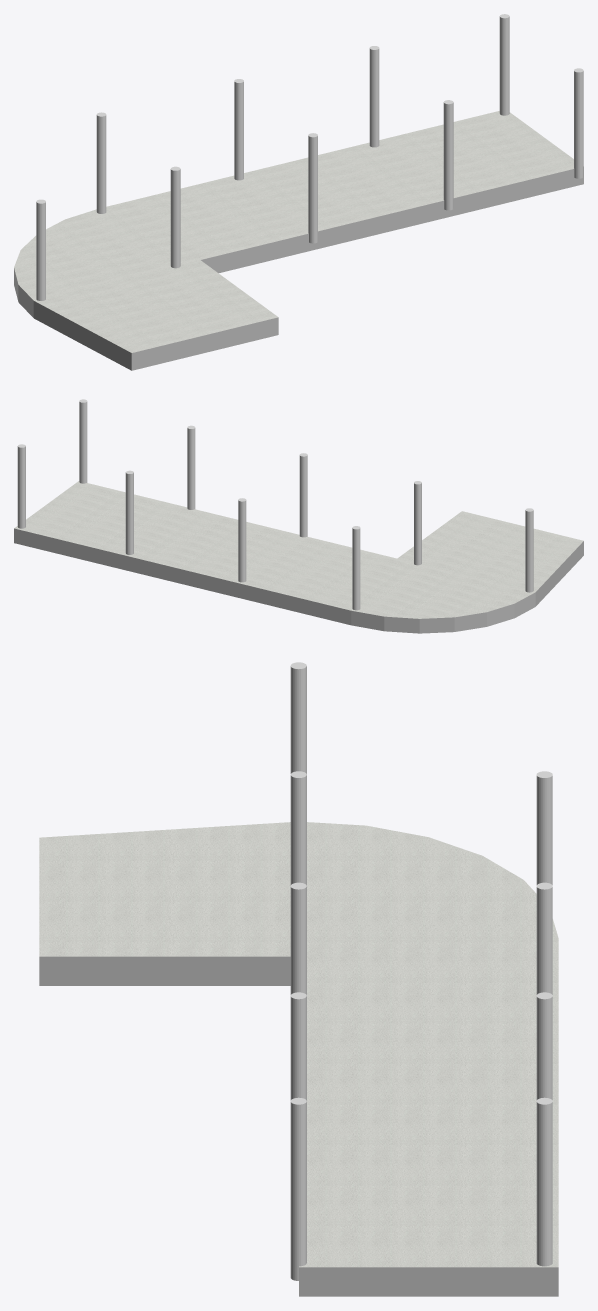
The model's file is RitaharjuBase.fbx.
3 views of the same model, one above another, from view 1: azimuth 30°, elevation 25°; view 2: azimuth 150°, elevation 25°; view 3: azimuth 270°, elevation 25° (orthographic). The views are drawn at different scales.
Parts seen in each view (by area): view 1: RitaharjuFloor, Column7, Column6, Column8, Column3, Column2, Column9, Column5, Column4, Column1; view 2: RitaharjuFloor, Column1, Column9, Column8, Column5, Column4, Column7, Column2, Column6, Column3; view 3: RitaharjuFloor, Column9, Column8, Column3, Column2, Column5, Column4, Column1, Column7, Column6.
Part boxes in pixels (x1,y1,x2,y2): RitaharjuFloor: [14, 111, 583, 370]; Column7: [443, 100, 453, 210]; Column6: [369, 46, 379, 147]; Column8: [499, 14, 509, 115]; Column3: [170, 166, 180, 268]; Column2: [96, 112, 106, 213]; Column9: [574, 68, 583, 178]; Column5: [308, 133, 317, 243]; Column4: [234, 79, 243, 180]; Column1: [36, 199, 45, 300]; RitaharjuFloor: [14, 481, 583, 633]; Column1: [525, 508, 533, 592]; Column9: [79, 399, 87, 483]; Column8: [17, 444, 25, 528]; Column5: [299, 453, 307, 537]; Column4: [238, 498, 246, 582]; Column7: [187, 425, 195, 509]; Column2: [352, 526, 360, 610]; Column6: [125, 470, 133, 554]; Column3: [414, 481, 421, 565]; RitaharjuFloor: [39, 822, 558, 1296]; Column9: [290, 1097, 306, 1280]; Column8: [536, 1097, 552, 1266]; Column3: [290, 771, 306, 885]; Column2: [536, 771, 552, 884]; Column5: [290, 882, 306, 995]; Column4: [536, 882, 552, 994]; Column1: [290, 662, 306, 774]; Column7: [290, 992, 306, 1100]; Column6: [536, 992, 552, 1099].
Size of the model in its own units: 3250 by 650 by 1600.
